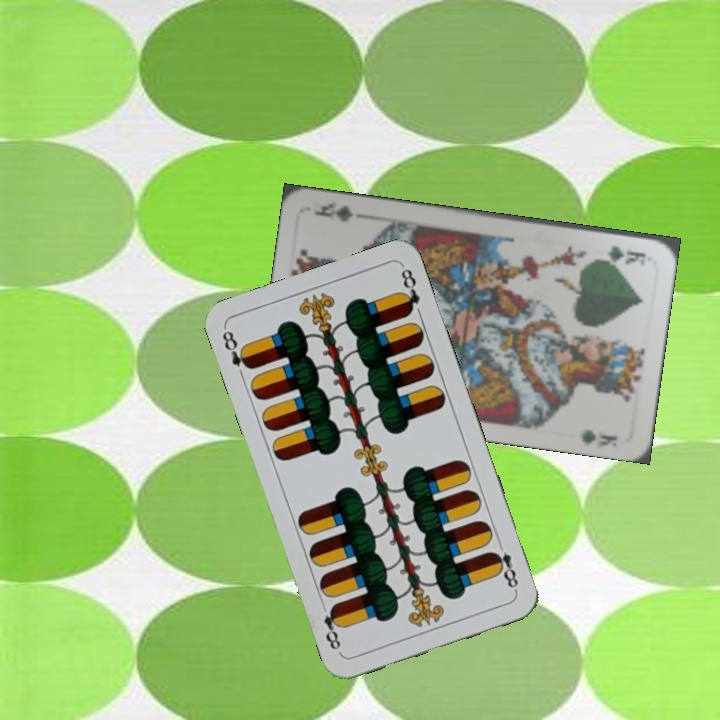E8: (488, 536, 521, 594), (218, 325, 255, 372)
GK: (603, 242, 649, 265)
